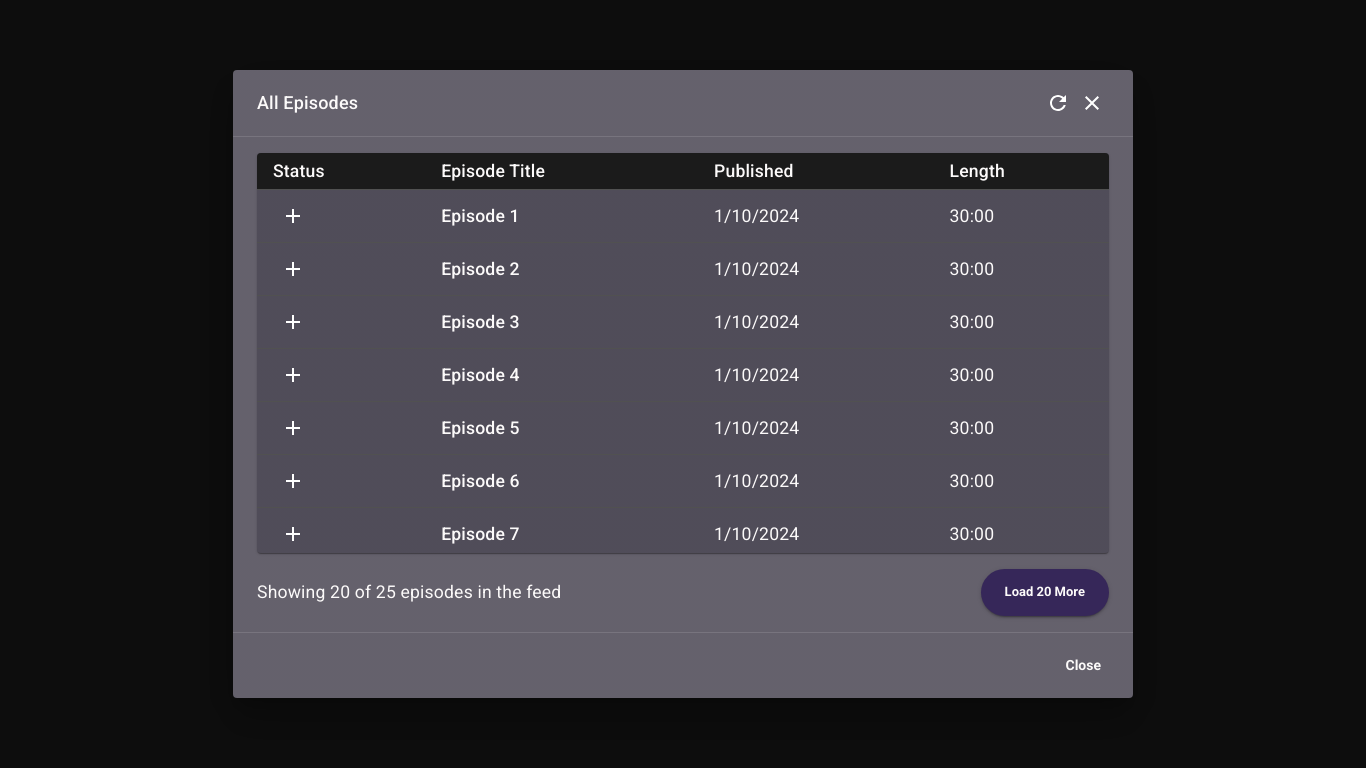
Test: FeedEpisodeBrowserDialog › lists the first page with date and duration, and loads the next page by offset
Expected: the text "Episode 1" is shown, [425, 190, 698, 243]
Expected: the text "Showing 20 of 25 episodes in the feed" is shown, [257, 578, 561, 607]
Click the button "Load 20 More": [1045, 593] box [981, 569, 1109, 616]
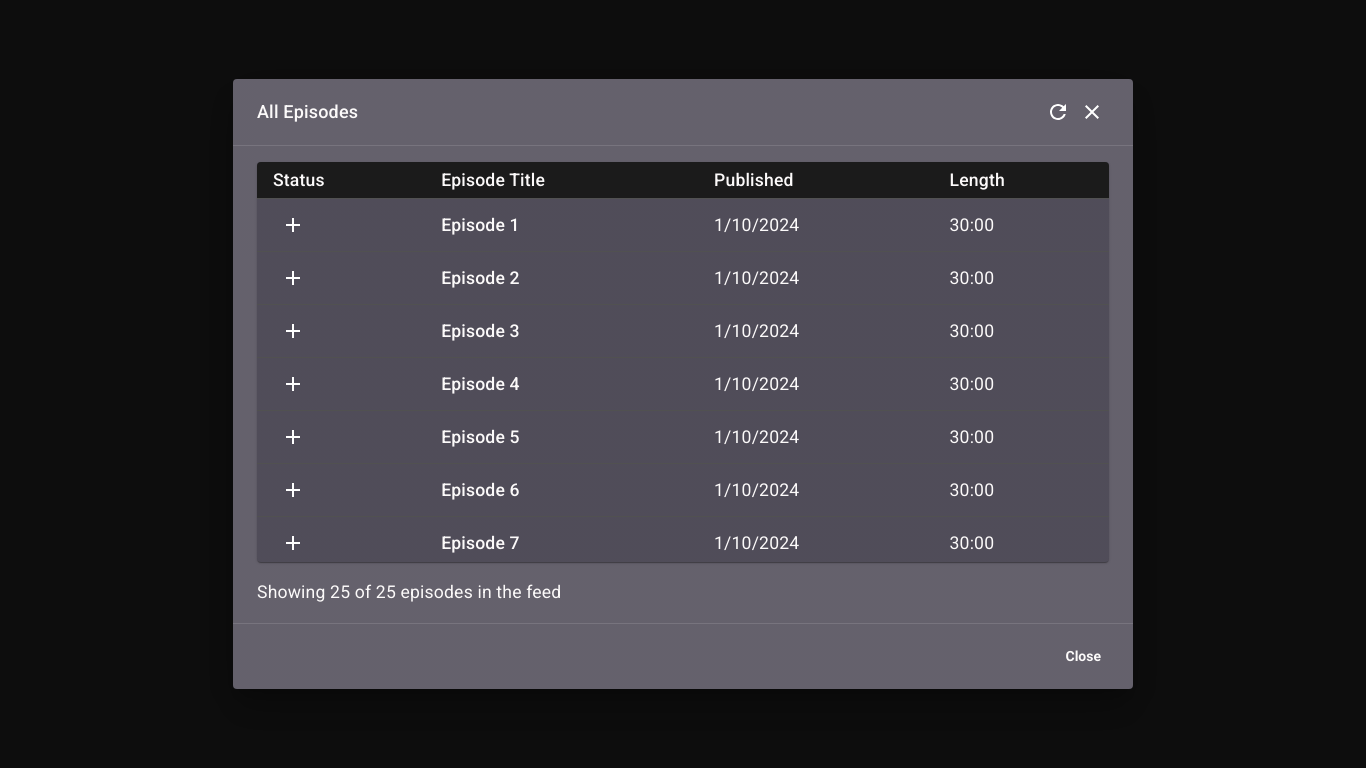
Now the text "Showing 25 of 25 episodes in the feed" is shown, box [257, 578, 561, 607]
Now the button "Load 20 More" is gone
